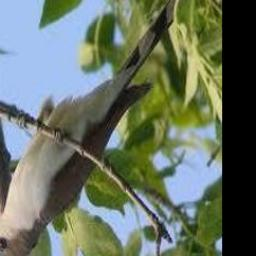Cuckoo: (0, 0, 187, 256)
